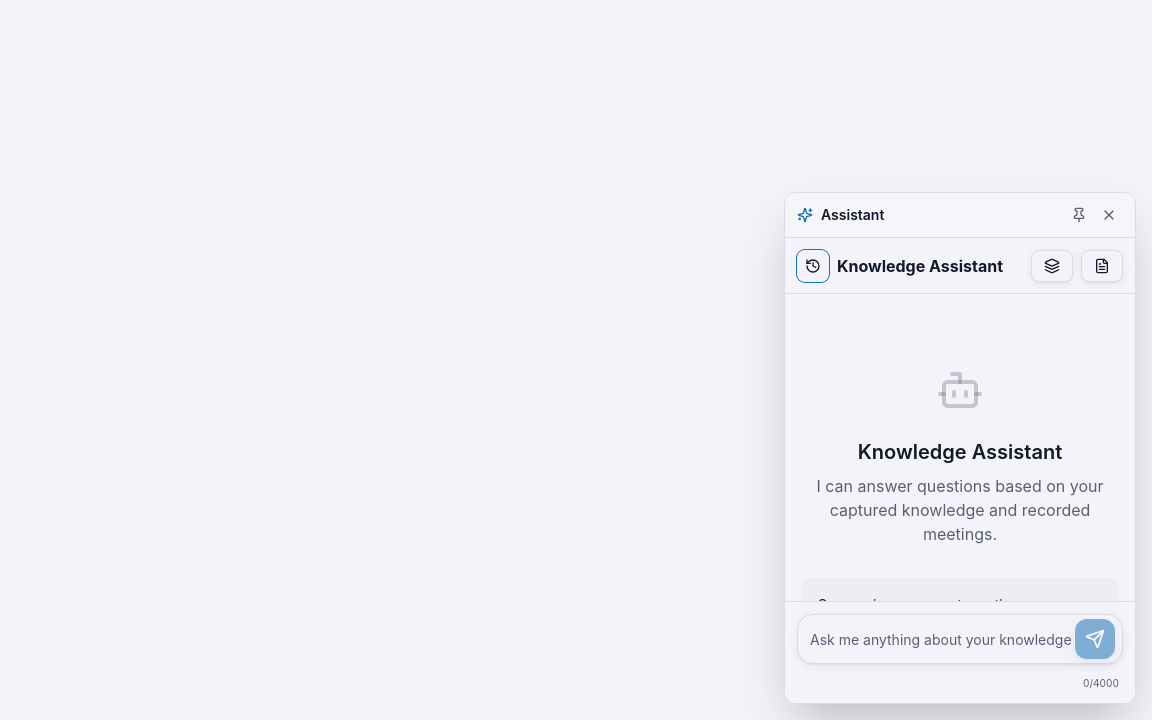
Chat Component › narrow-container (overlay) adaptation › inside FloatingAssistant, Escape closes only the inner drawer and focus stays in the assistant
Click the button with test id "chat-history-toggle": (813, 266) top-left (797, 250), bottom-right (829, 282)
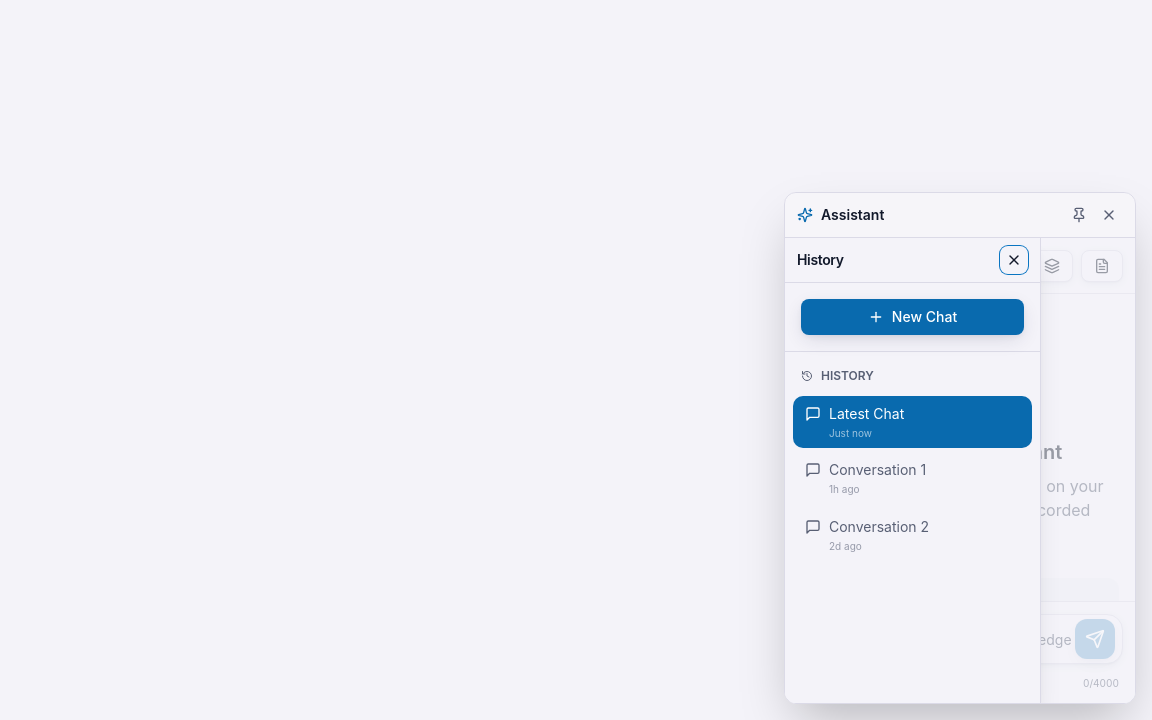
Note: ONE Escape press.
Press Escape in the button named "Close history", box top-left (1000, 246), bottom-right (1028, 274)
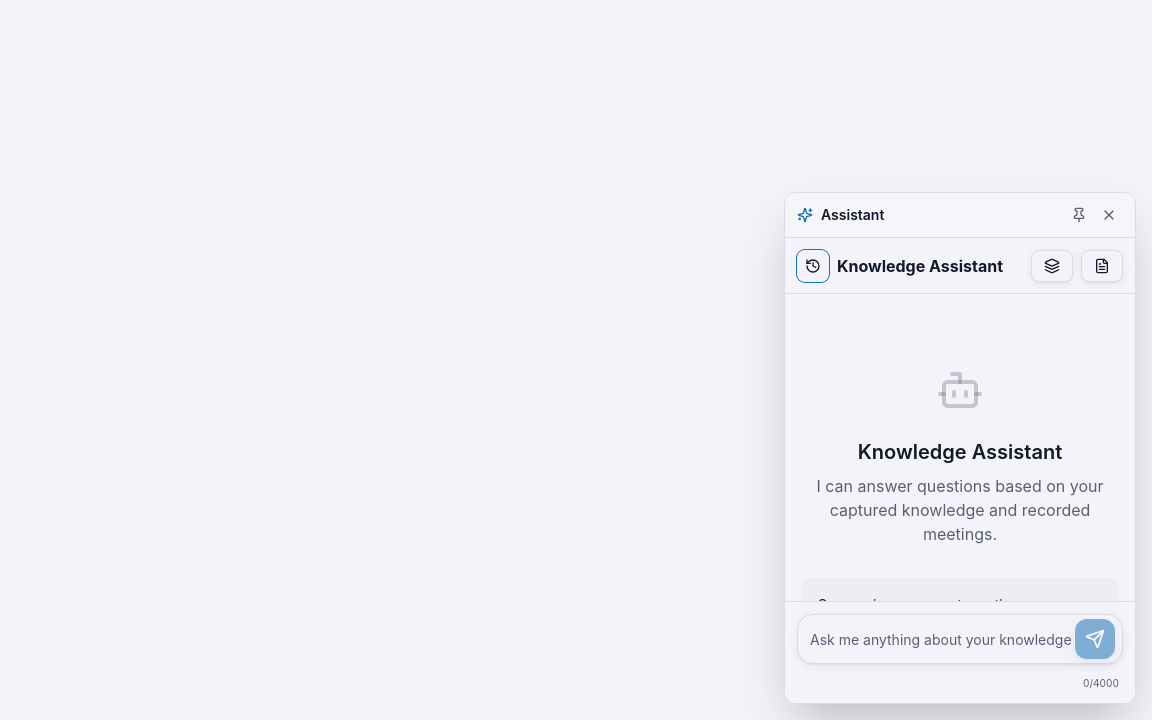
Expected: the dialog with test id "floating-assistant-overlay" is shown, top-left (784, 192), bottom-right (1136, 704)
Expected: the dialog with test id "chat-history-drawer" is gone
